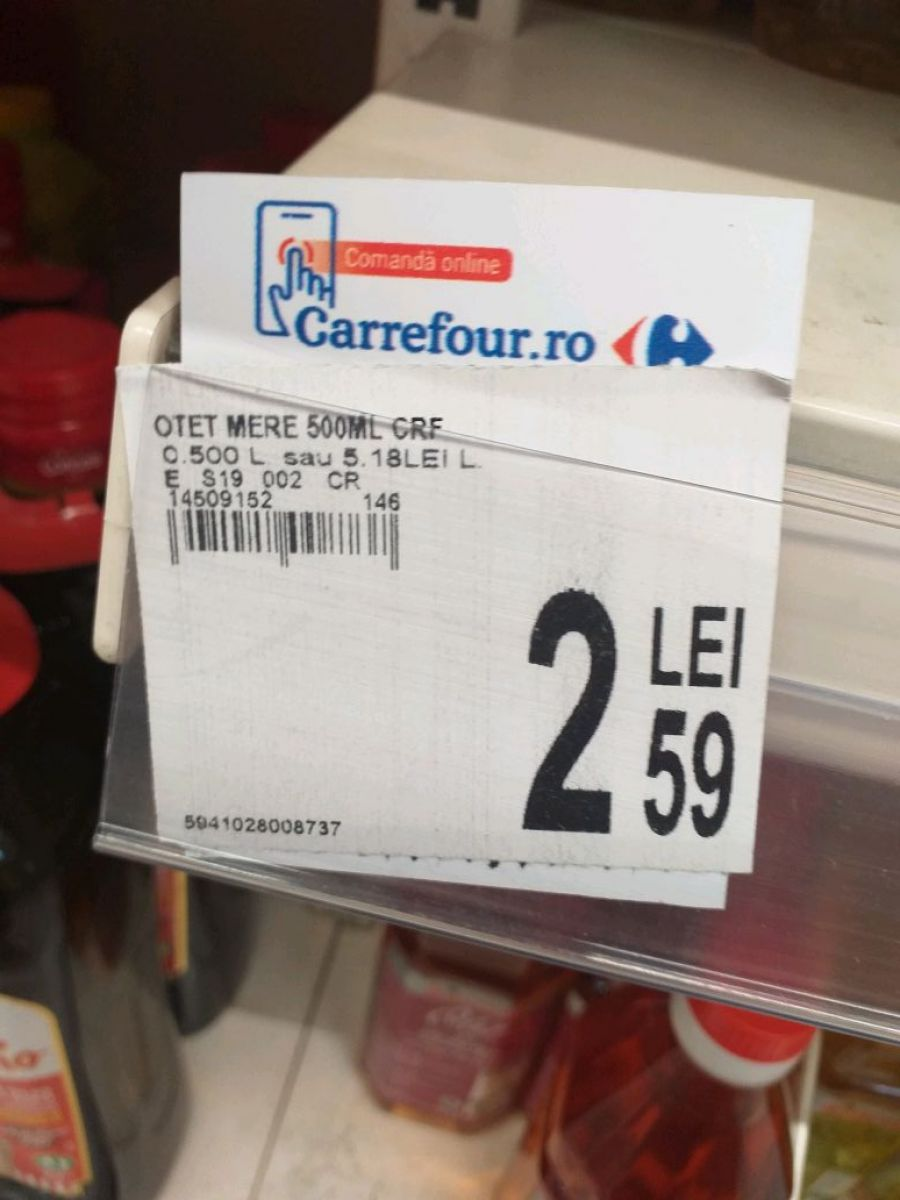price_bani: (631, 699, 751, 842)
price_lei: (506, 578, 630, 841)
price_tag: (91, 341, 815, 887)
product_id: (170, 810, 371, 843)
product_name: (130, 400, 471, 443)
